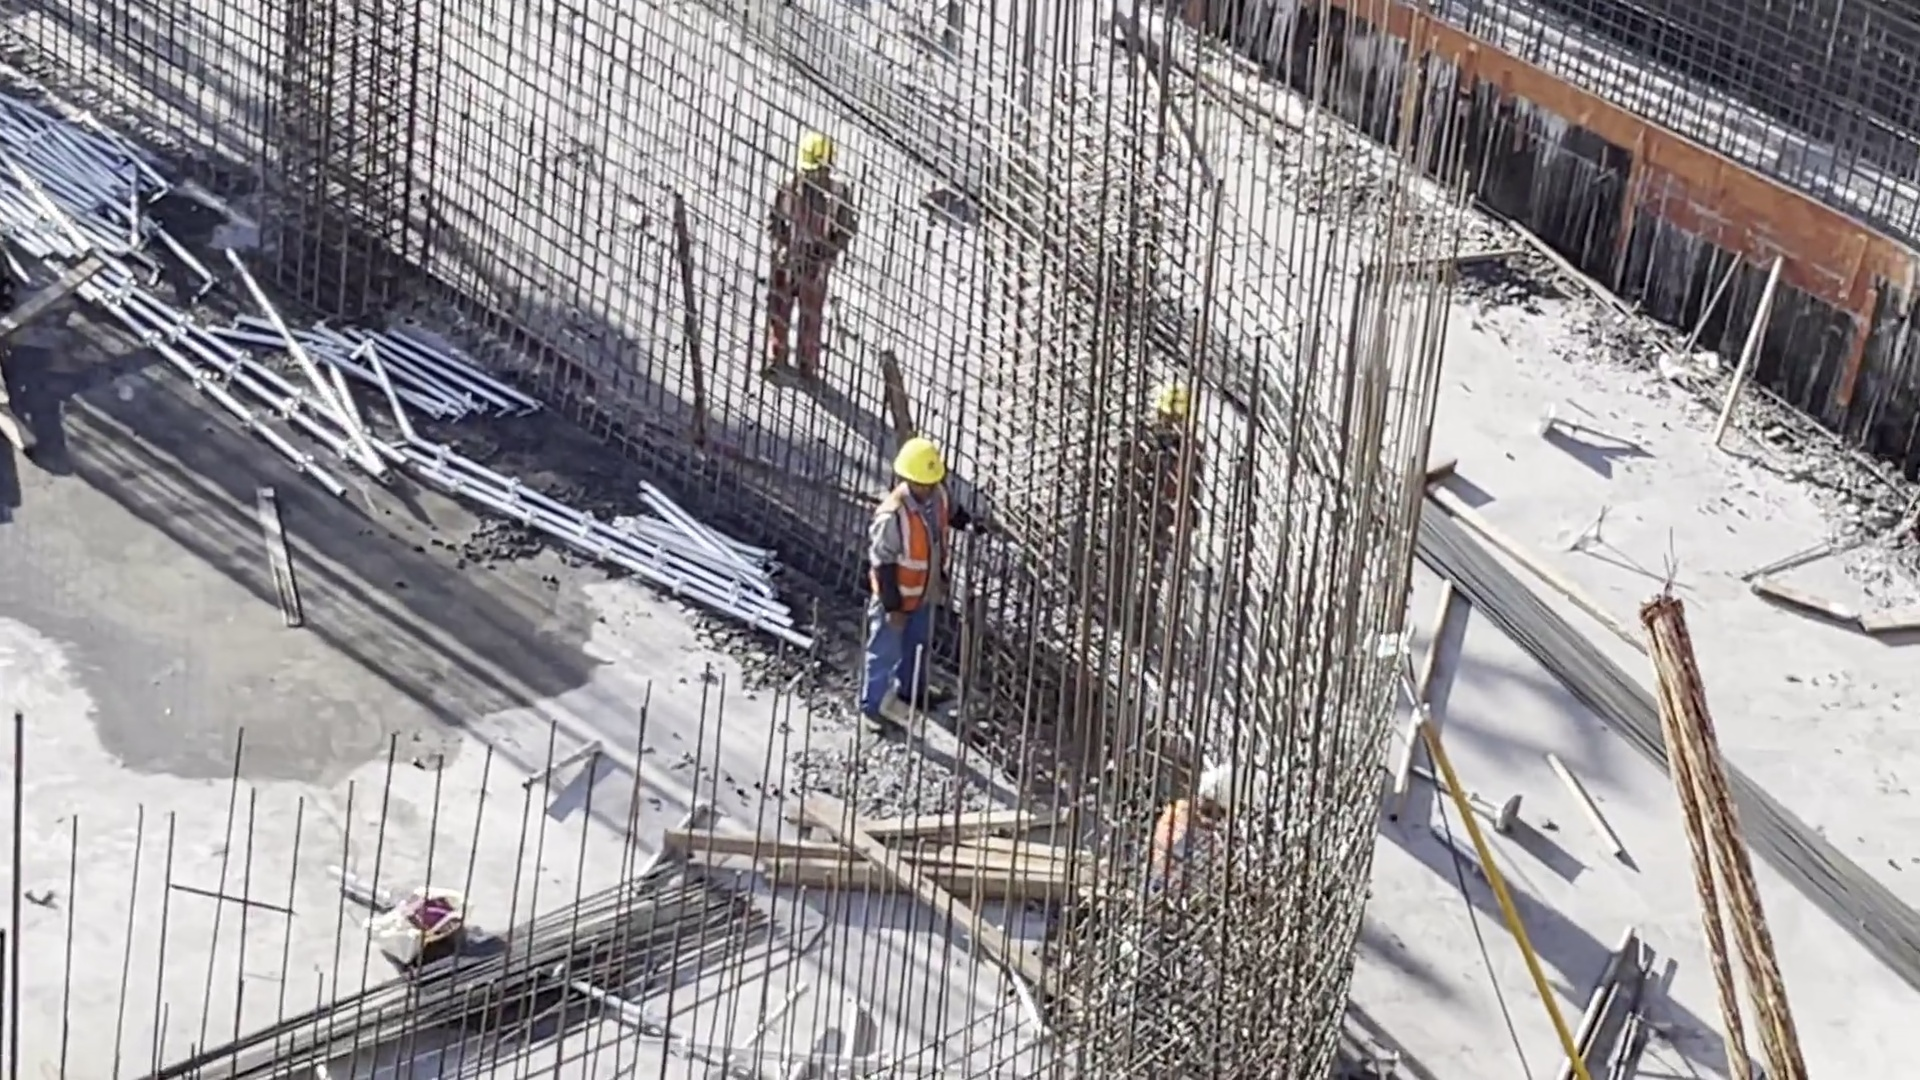helmet: (1196, 771, 1251, 819), (899, 441, 945, 486), (796, 139, 833, 171), (1160, 390, 1197, 422)
person: (858, 437, 962, 734), (767, 124, 863, 386), (1114, 374, 1195, 609), (1140, 757, 1263, 875)
rebar: (1392, 499, 1918, 974), (183, 856, 753, 1080)
scaffold: (29, 113, 204, 319), (615, 498, 814, 650), (323, 322, 524, 431)
vest: (868, 498, 957, 618), (1127, 430, 1203, 549), (1142, 805, 1233, 887), (768, 175, 844, 272)
